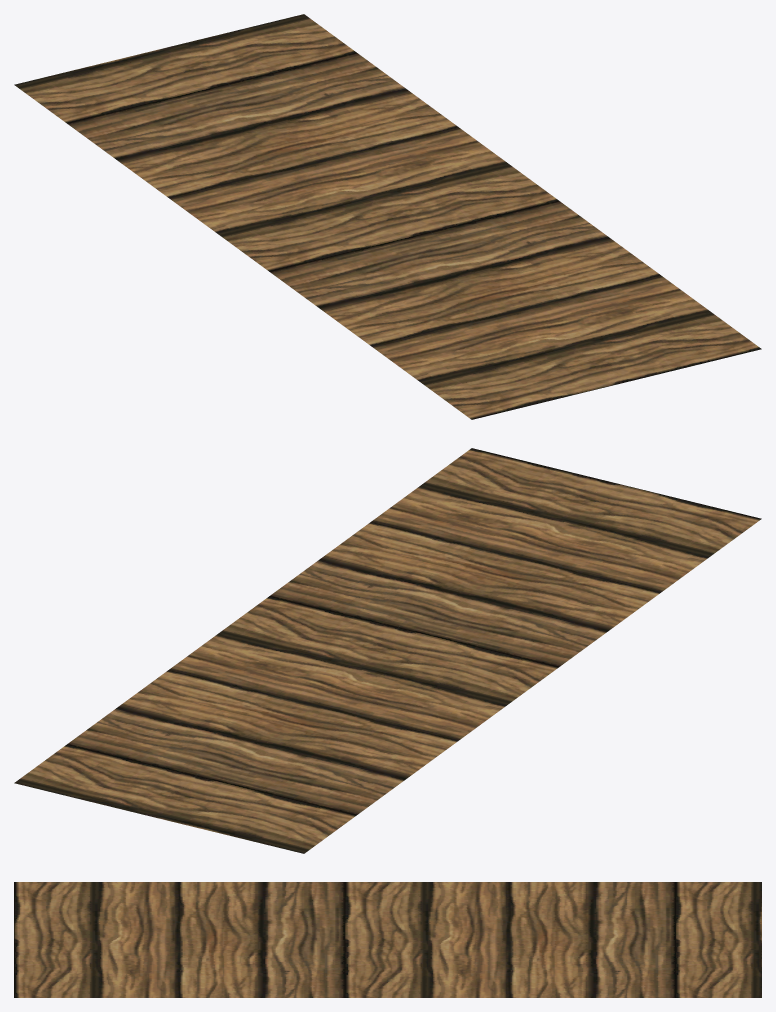
File: LAKETOWN_EXTERIOR_PS_LT_OBJECT171.fbx
The picture shows the model from 3 angles, top to bottom: view 1: azimuth 30°, elevation 25°; view 2: azimuth 150°, elevation 25°; view 3: azimuth 270°, elevation 25°; orthographic projection. The views are drawn at different scales.
Parts seen in each view (by area): view 1: LAKETOWN_EXTERIOR_PS_LT_OBJECT171; view 2: LAKETOWN_EXTERIOR_PS_LT_OBJECT171; view 3: LAKETOWN_EXTERIOR_PS_LT_OBJECT171.
Boxes of the visible parts, left/top/right/bottom form: LAKETOWN_EXTERIOR_PS_LT_OBJECT171: left=14, top=14, right=761, bottom=419; LAKETOWN_EXTERIOR_PS_LT_OBJECT171: left=14, top=448, right=761, bottom=853; LAKETOWN_EXTERIOR_PS_LT_OBJECT171: left=14, top=882, right=761, bottom=997.
Size of the model in its own units: 25084 by 3.01 by 68550.
Materials: 1 (1 with a texture image).
